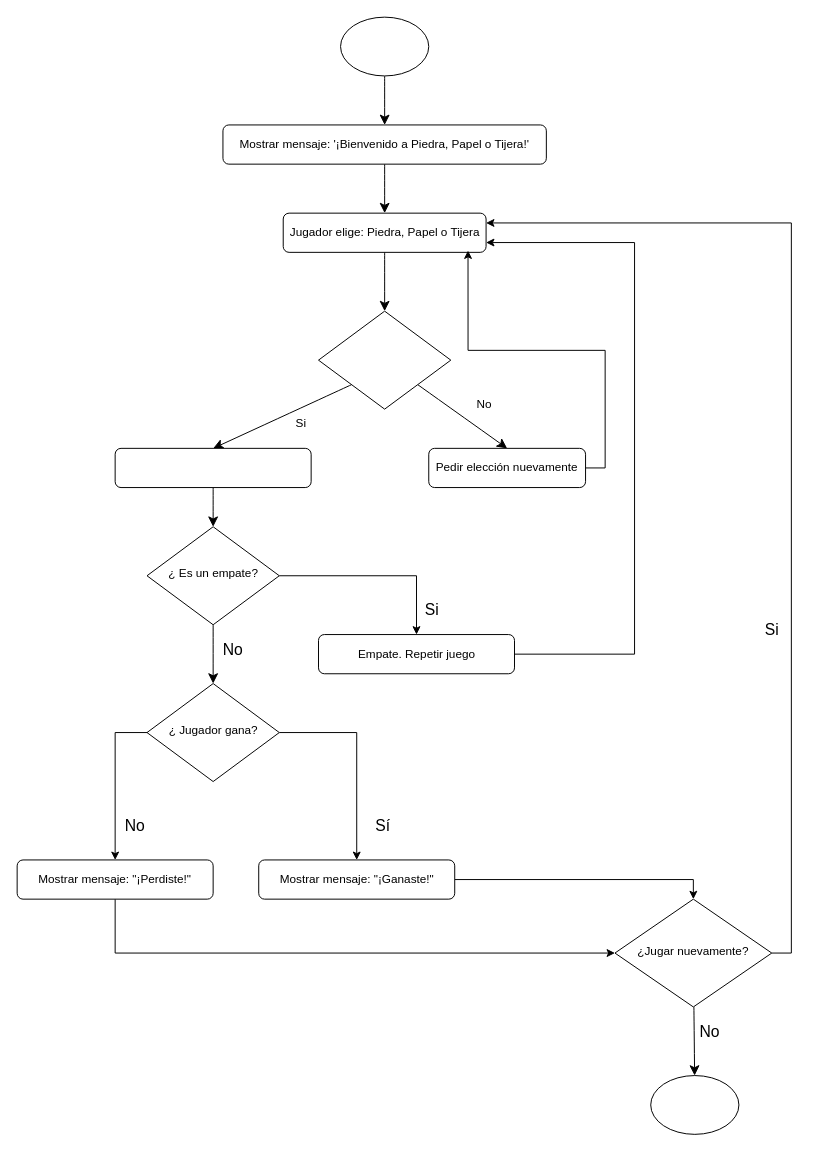
This 816x1152 diagram has some shape labels left out. Here are the shapes that lost their labels. From the top down, the box of each, then its label:
(340, 16, 429, 76): Inicio
(318, 310, 451, 409): ¿ Es una entrada valida?
(114, 447, 311, 488): Computadora elige aleatoriamente
(650, 1075, 739, 1134): Fin
